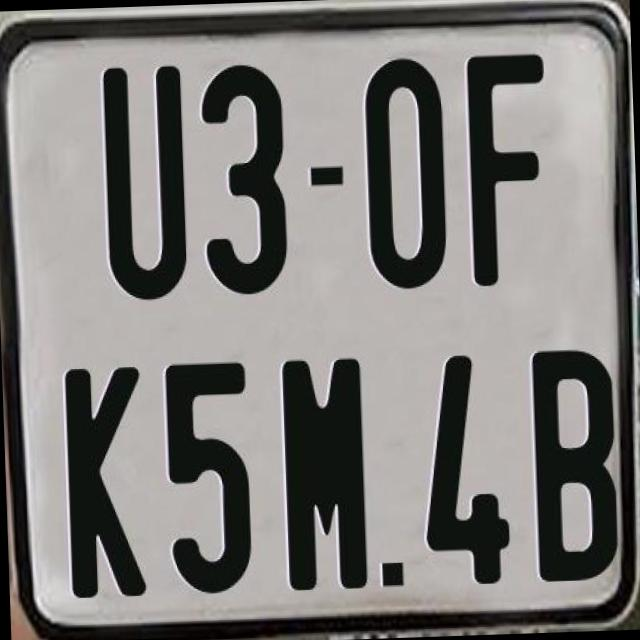0: (358, 53, 444, 287)
3: (200, 60, 296, 292)
4: (418, 353, 516, 587)
5: (162, 360, 254, 594)
B: (532, 346, 620, 586)
F: (463, 48, 551, 291)
K: (61, 364, 152, 606)
M: (280, 357, 368, 592)
U: (100, 64, 187, 308)
